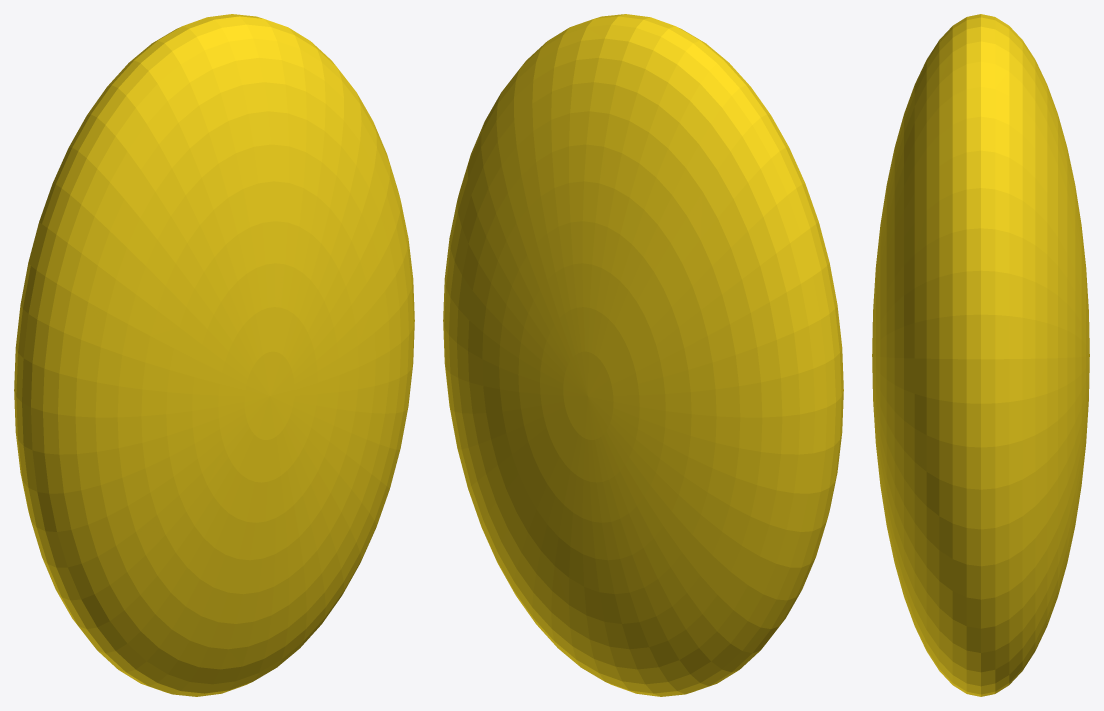
Rendered from tinker.obj.
3 renders of one model, left to right at view 1: azimuth 30°, elevation 25°; view 2: azimuth 150°, elevation 25°; view 3: azimuth 270°, elevation 25°, orthographic. The views are drawn at different scales.
Parts seen in each view (by area): view 1: obj_0; view 2: obj_0; view 3: obj_0.
Part boxes in pixels (bbox=[...]): obj_0: bbox=[14, 14, 414, 696]; obj_0: bbox=[443, 14, 843, 696]; obj_0: bbox=[872, 14, 1089, 696].
Bounding box in the file's own units: 6 × 10 × 3.
